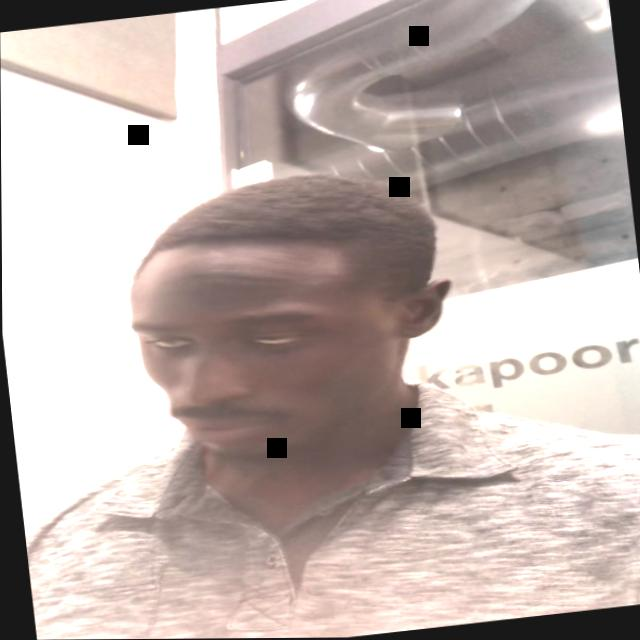NO-Mask: (127, 224, 446, 468)
